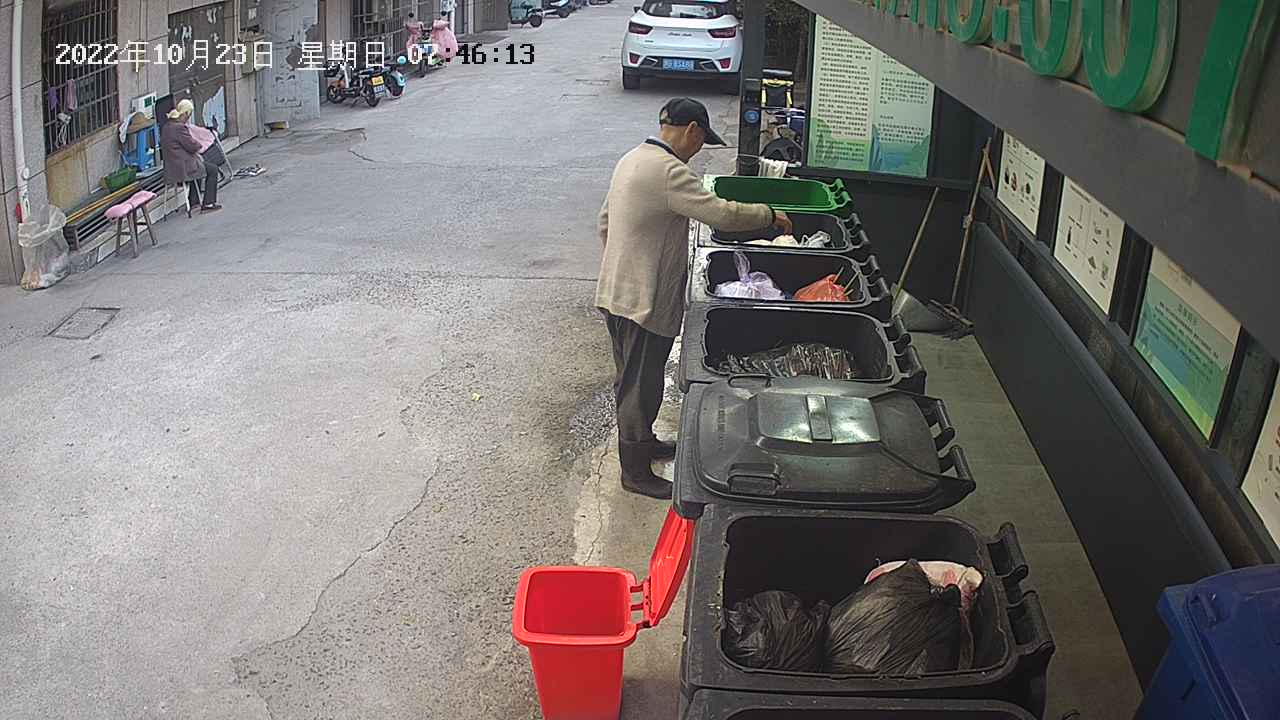person: (591, 91, 798, 504), (158, 93, 226, 215)
